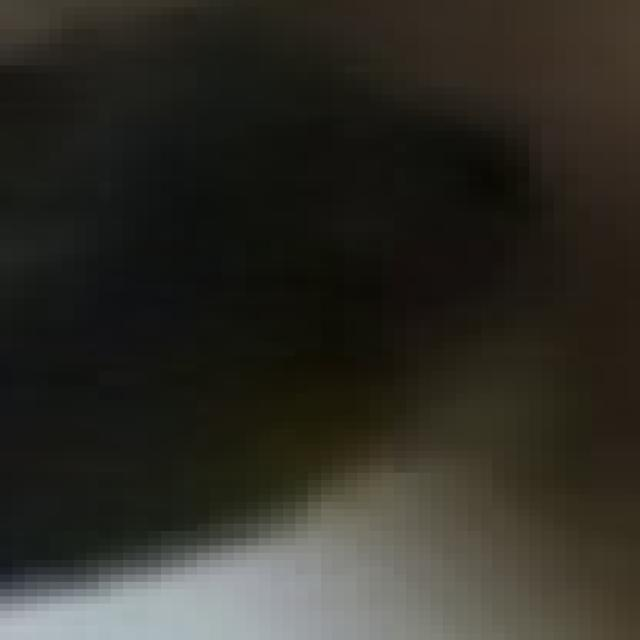fish: (12, 7, 640, 640)
